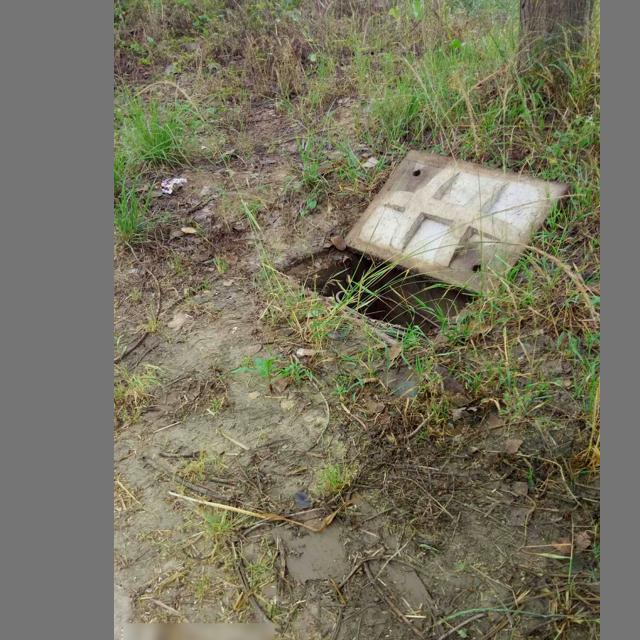uncovered: (272, 150, 568, 343)
